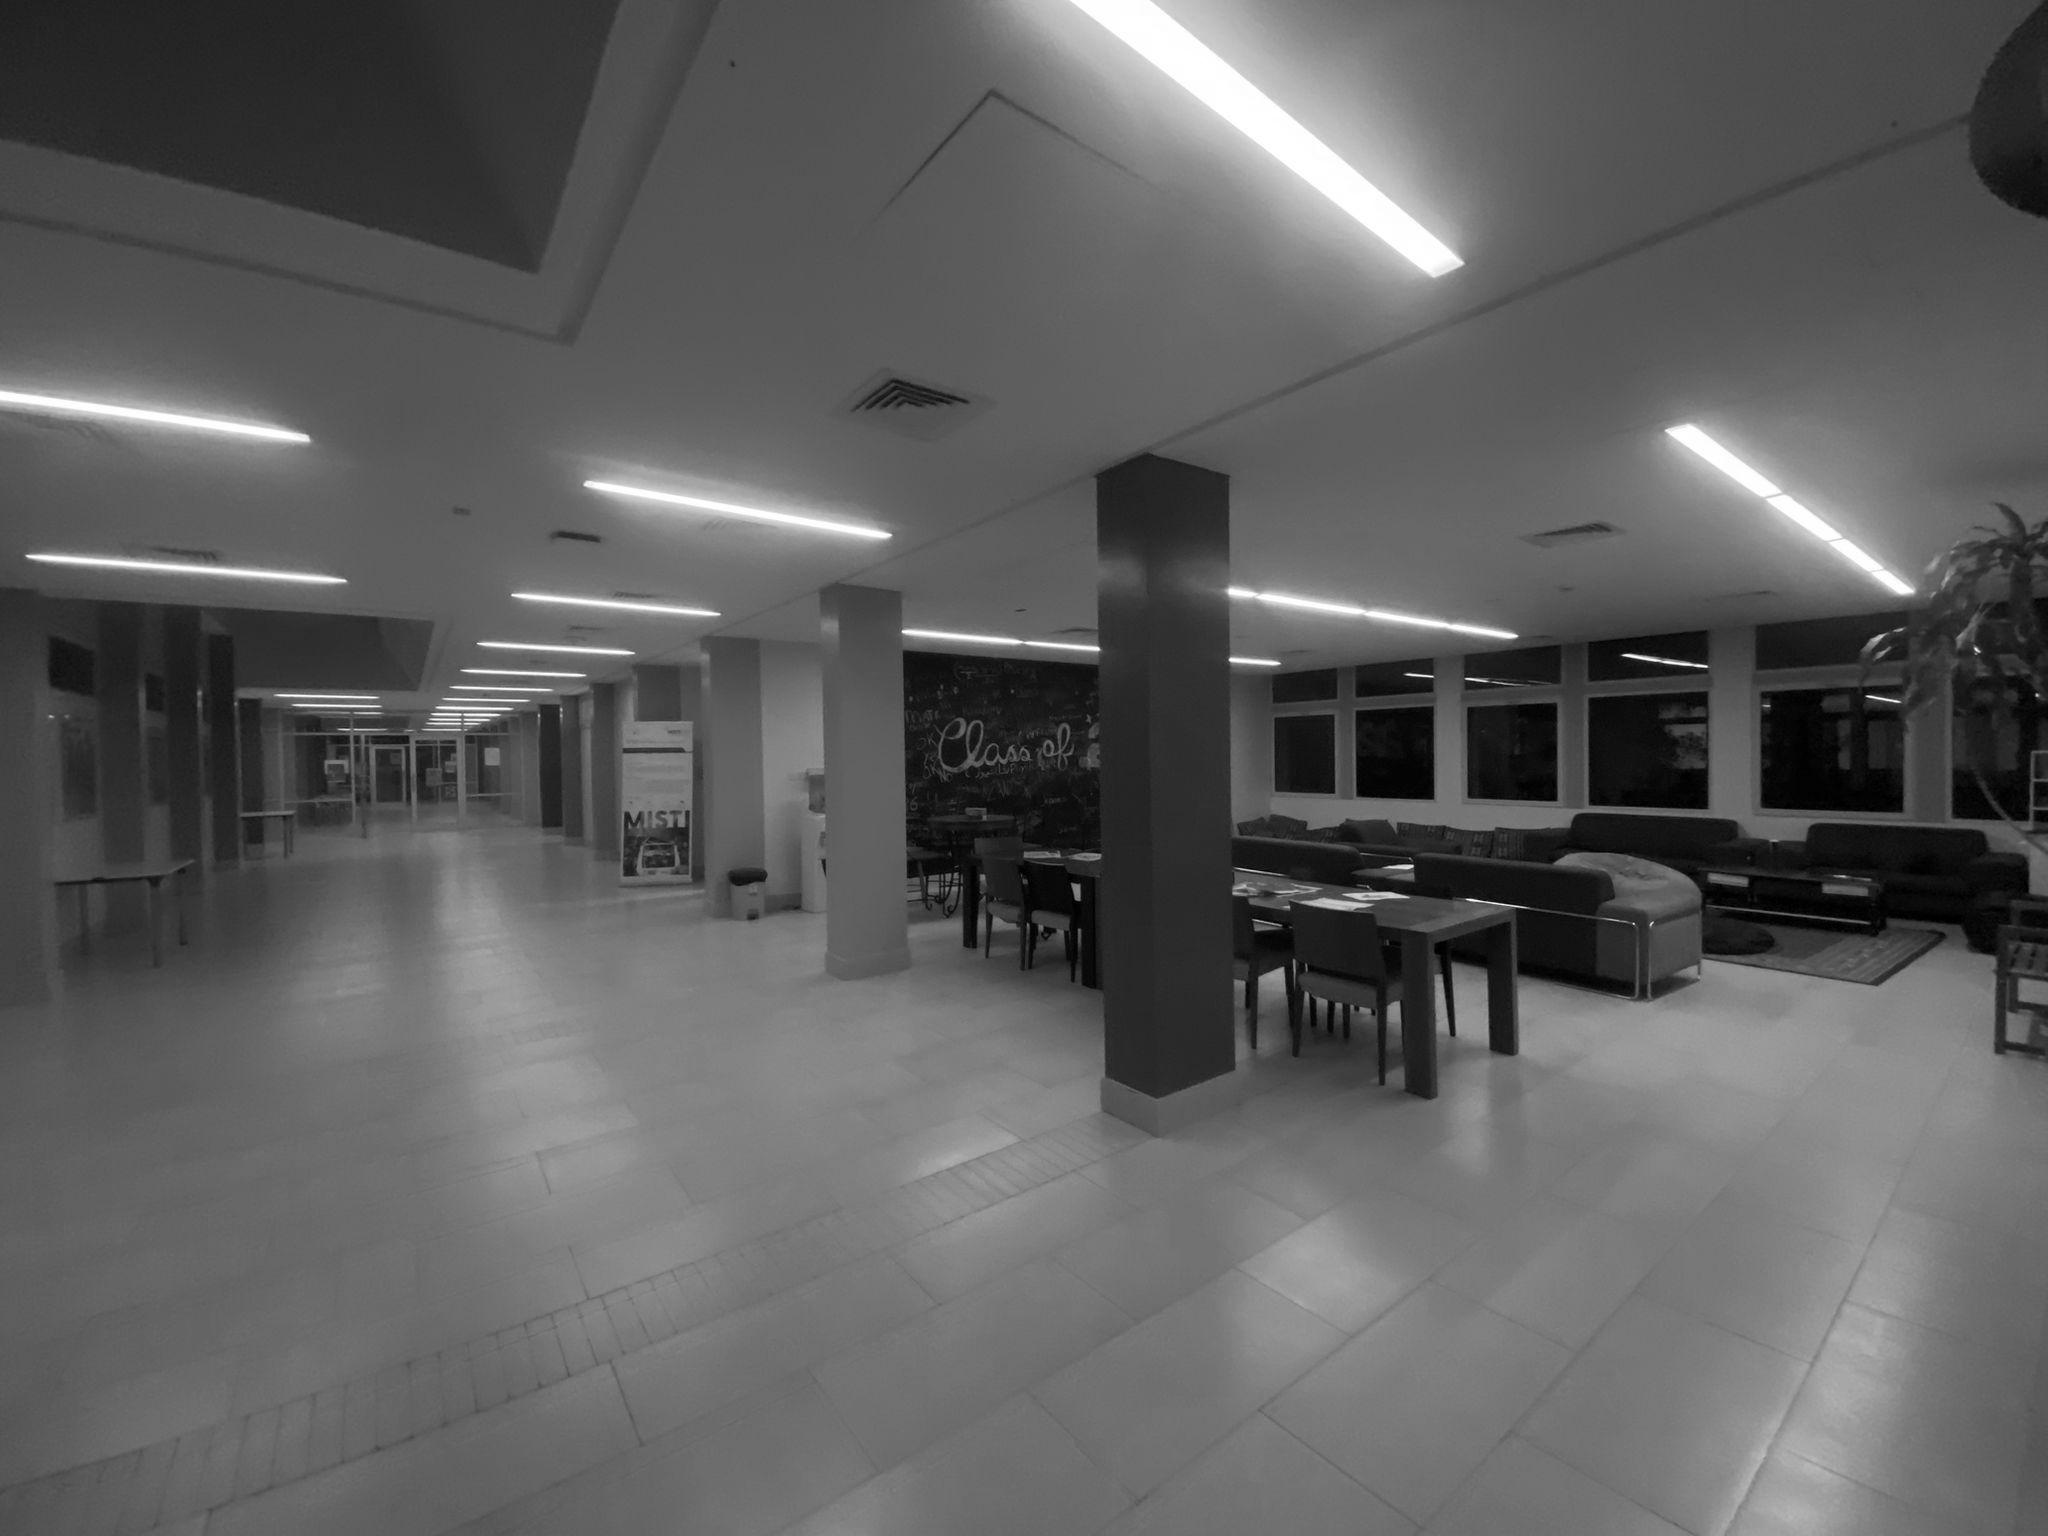Chair: (984, 857, 1092, 978), (1309, 908, 1398, 1055), (1234, 899, 1314, 1054), (1995, 899, 2046, 1058)
Couch: (1567, 813, 2024, 920), (1414, 854, 1700, 989), (1237, 815, 1566, 862), (1234, 837, 1413, 886), (1701, 916, 1775, 955)
Pillar: (1097, 457, 1235, 1129), (821, 584, 910, 978), (0, 589, 58, 1000), (584, 666, 684, 849), (689, 637, 764, 878), (97, 603, 144, 862), (161, 608, 203, 878), (205, 632, 240, 862)
Table: (1235, 870, 1517, 1097), (956, 847, 1101, 987), (53, 858, 192, 966), (240, 808, 293, 857), (177, 902, 187, 944)
